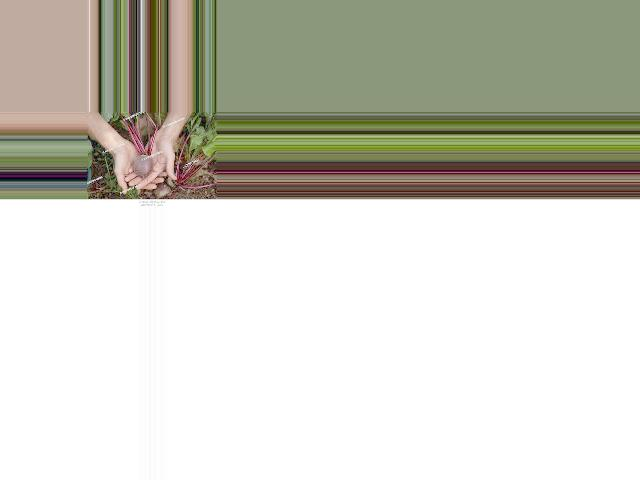beet: (119, 114, 158, 179)
